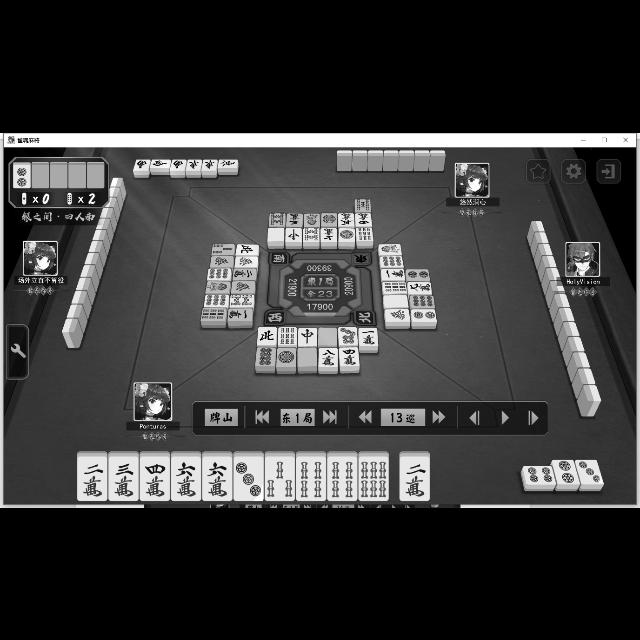1m: (359, 327, 378, 345), (228, 308, 252, 320), (381, 268, 405, 280)
1p: (278, 346, 296, 366), (339, 227, 355, 241), (321, 212, 337, 225)
1s: (205, 280, 229, 292), (378, 243, 402, 255), (304, 212, 320, 226)
2m: (77, 456, 107, 500), (400, 456, 430, 500), (554, 460, 580, 482), (232, 266, 256, 280)
2p: (13, 164, 31, 188), (411, 308, 437, 322), (406, 268, 430, 280)
3m: (108, 456, 138, 500), (286, 212, 302, 226)
3p: (234, 456, 264, 500), (574, 459, 604, 483)
3s: (265, 456, 295, 500), (212, 243, 234, 255)
4m: (140, 456, 170, 500), (339, 348, 359, 364), (355, 212, 371, 224)
4p: (522, 465, 556, 483)
4s: (296, 456, 326, 500), (327, 456, 357, 499)
5m: (339, 212, 355, 226)
5s: (355, 197, 371, 211)
6m: (171, 456, 201, 500), (202, 456, 232, 500)
6s: (358, 456, 388, 500)
7m: (320, 228, 338, 240)
7p: (338, 326, 358, 344)
8m: (319, 348, 337, 366)
8p: (256, 346, 276, 366)
8s: (229, 294, 253, 306), (302, 227, 320, 241), (269, 212, 285, 226)
9m: (408, 281, 432, 293)
9p: (409, 294, 435, 308), (206, 268, 232, 280), (202, 294, 228, 306), (378, 255, 404, 267)
9s: (201, 307, 225, 321), (278, 326, 296, 344), (356, 226, 374, 240), (382, 282, 406, 292)
chun: (298, 326, 316, 346), (286, 227, 302, 241)
haku: (298, 346, 316, 366), (319, 327, 337, 345), (384, 294, 408, 306), (268, 227, 284, 241)
hatsu: (384, 309, 410, 321), (231, 280, 255, 292), (210, 255, 232, 267), (234, 256, 258, 266)
nan: (132, 158, 150, 170), (170, 158, 186, 170), (150, 158, 170, 166)
pe: (258, 326, 276, 344), (236, 243, 258, 254)
tou: (202, 158, 216, 170), (218, 159, 238, 167), (186, 159, 200, 169)
